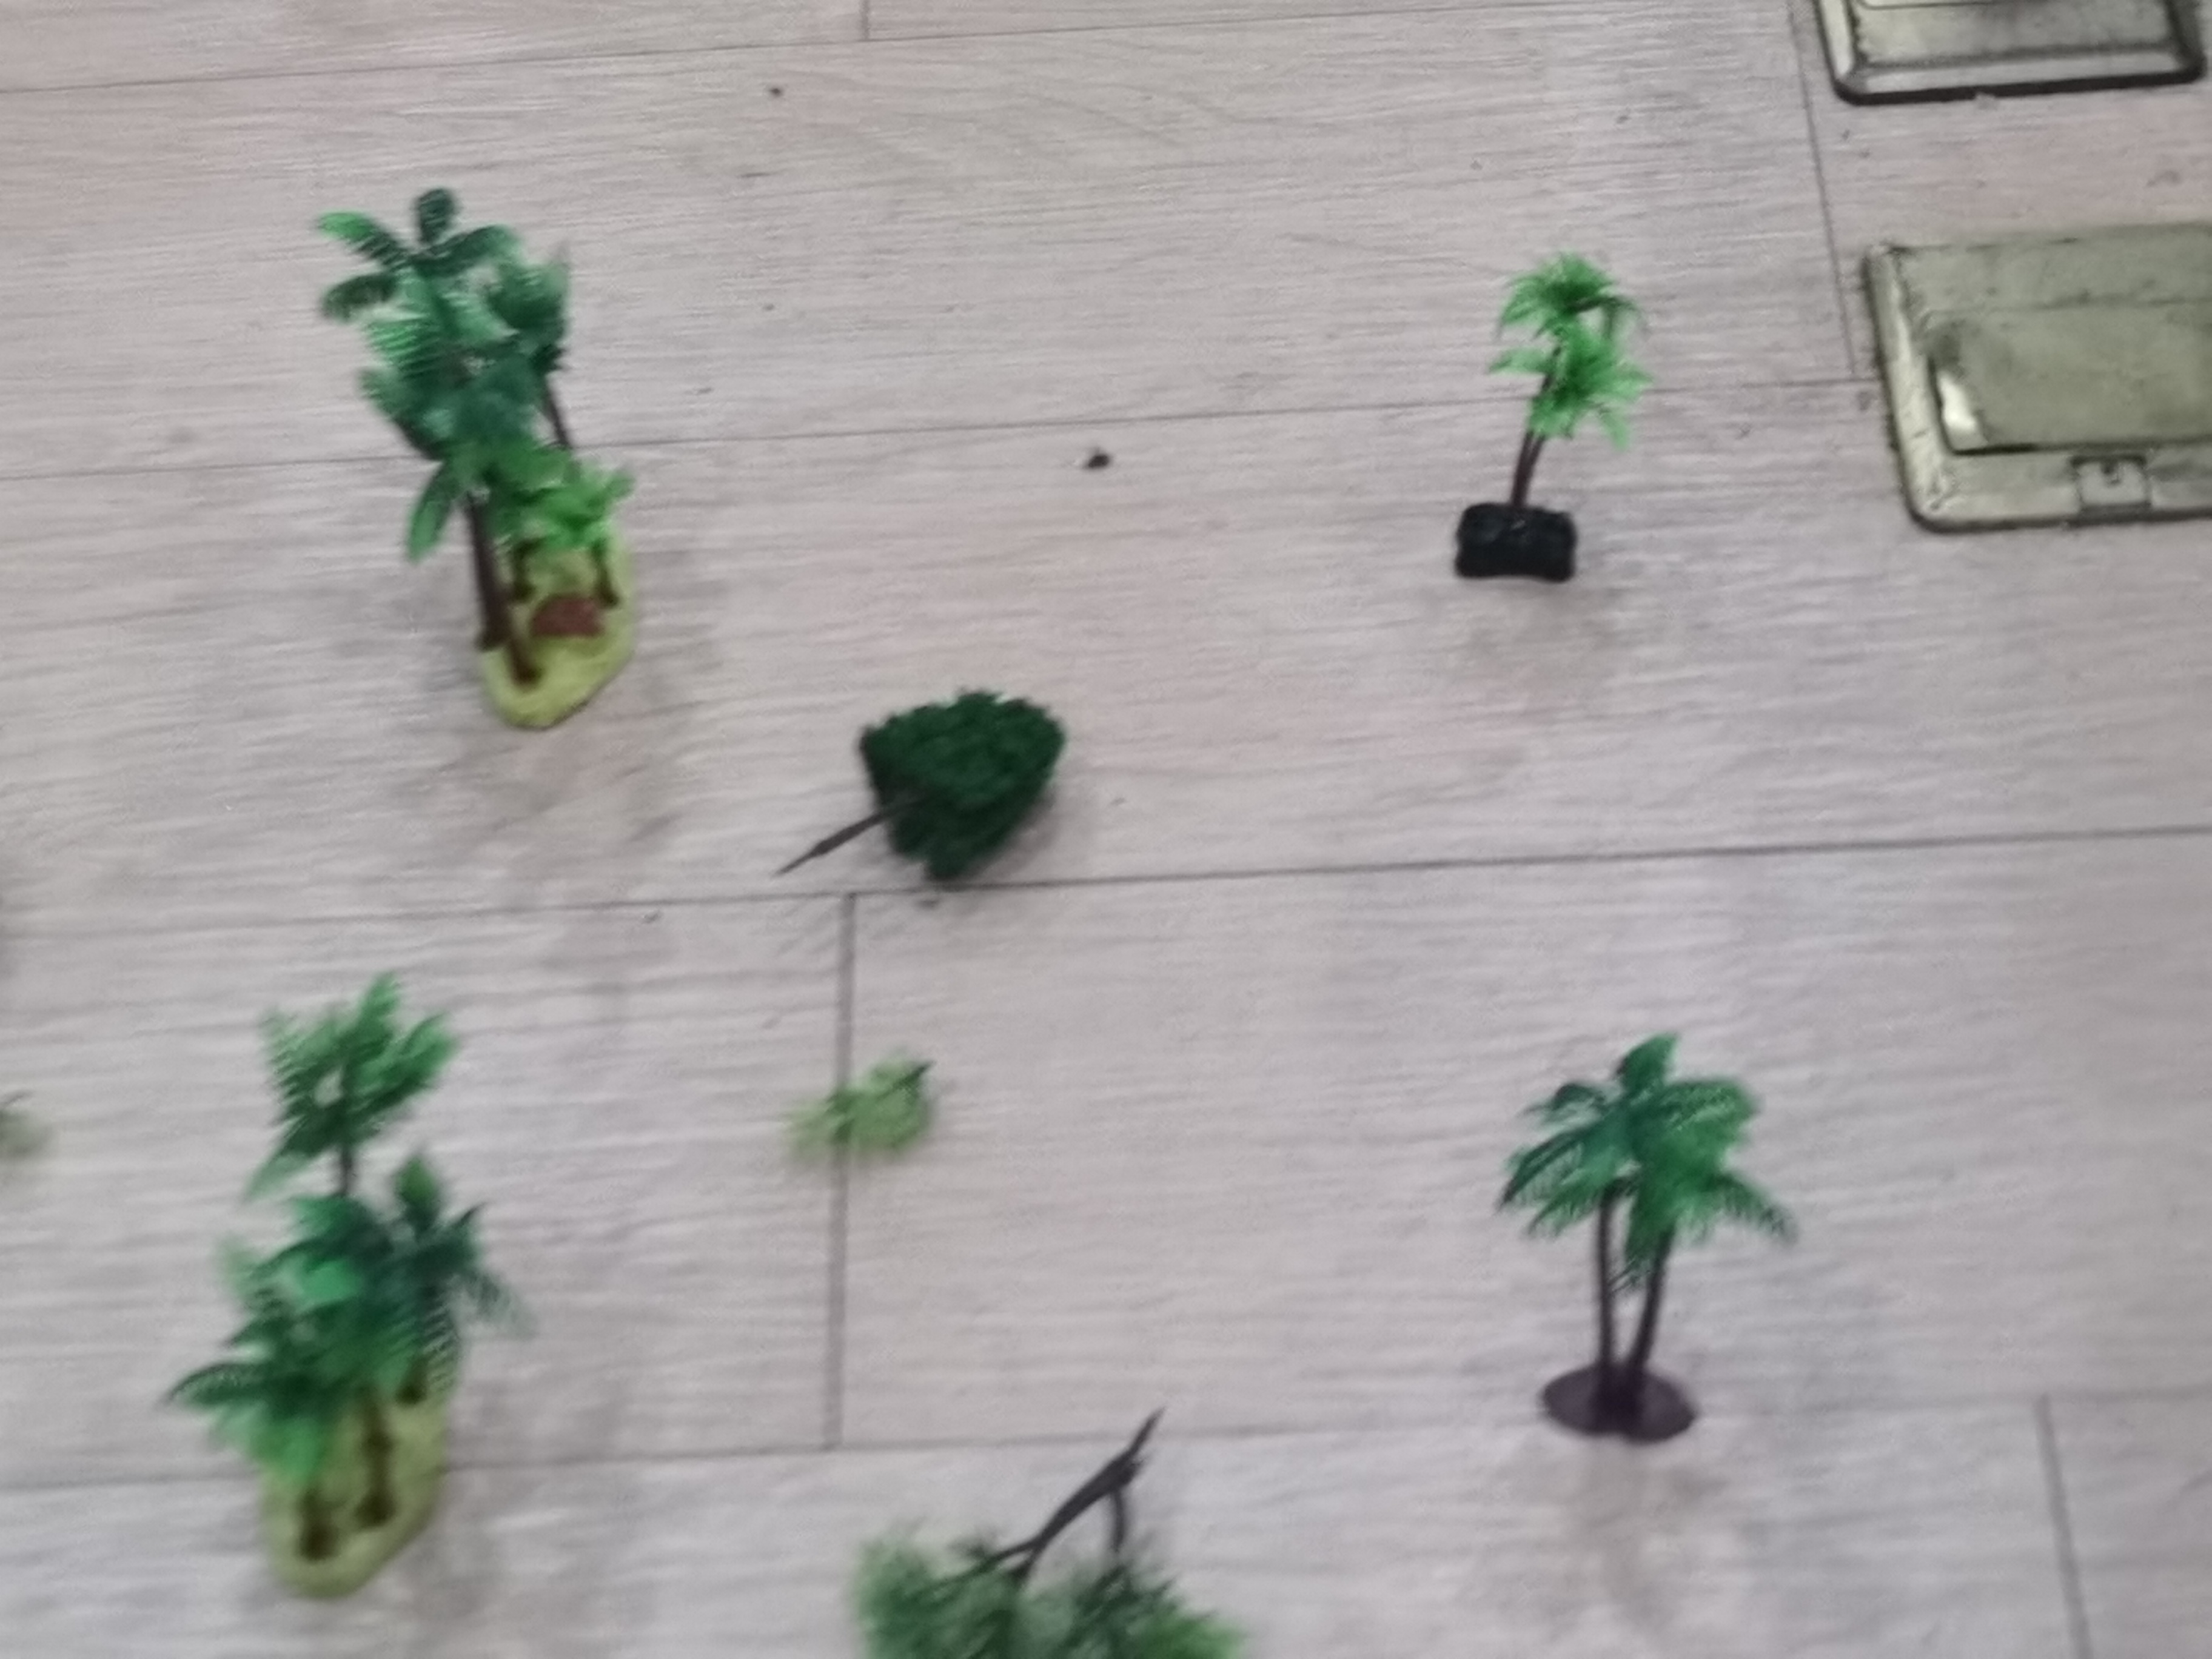corn: (178, 971, 524, 1598), (305, 185, 648, 730), (1503, 1021, 1803, 1441), (1442, 249, 1653, 577)
